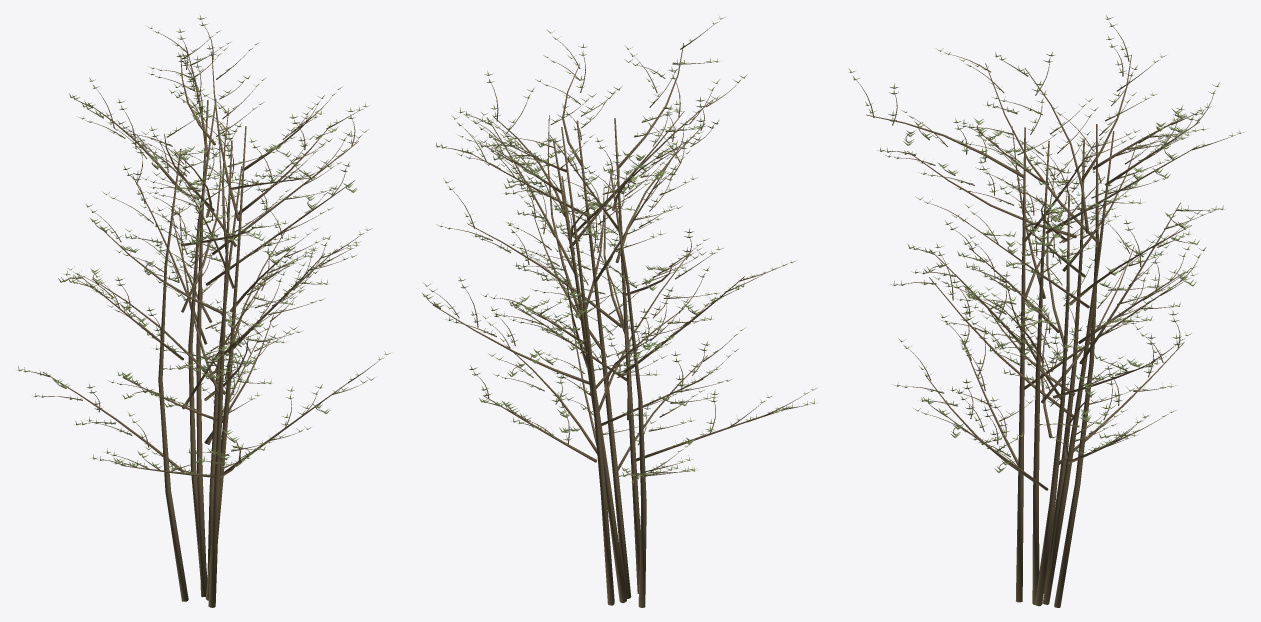
File: Bruyere_2_LOD0.fbx
3 views of the same model, side by side, from view 1: azimuth 30°, elevation 25°; view 2: azimuth 150°, elevation 25°; view 3: azimuth 270°, elevation 25° (orthographic). The views are drawn at different scales.
Visible parts, largest first — view 1: Bruyere_2_LOD0; view 2: Bruyere_2_LOD0; view 3: Bruyere_2_LOD0.
Part boxes in pixels (x1,y1,x2,y2): Bruyere_2_LOD0: (17,14,390,607); Bruyere_2_LOD0: (422,16,817,607); Bruyere_2_LOD0: (848,15,1244,607).
Size of the model in its own units: 246 by 374 by 252.
